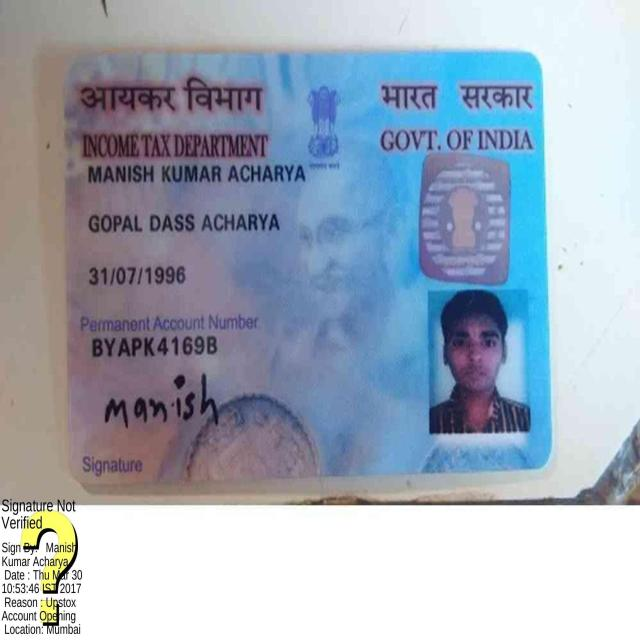pan_card: (67, 54, 552, 483)
